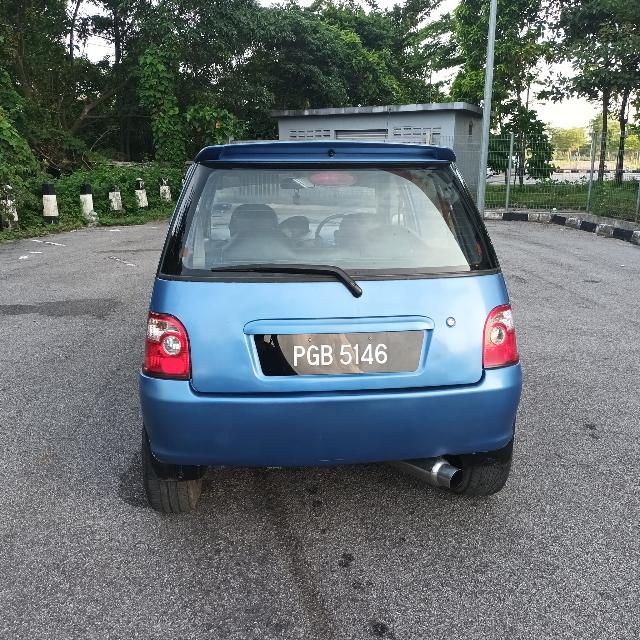License_Plate: (263, 333, 420, 374)
car: (127, 128, 528, 517)
